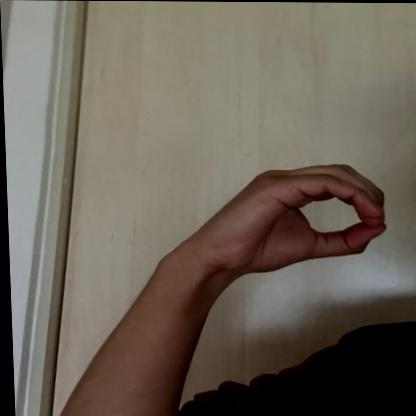O: (199, 158, 396, 279)
